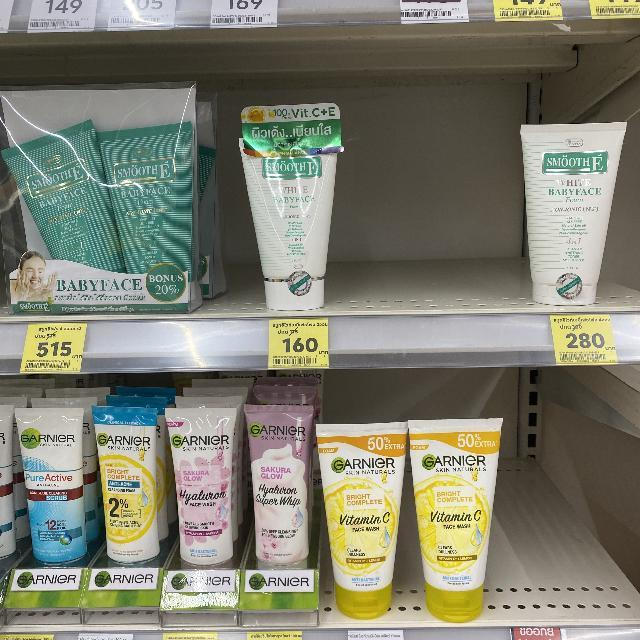Squeeze Tube: (0, 379, 499, 609), (217, 70, 354, 312), (503, 107, 640, 311)
